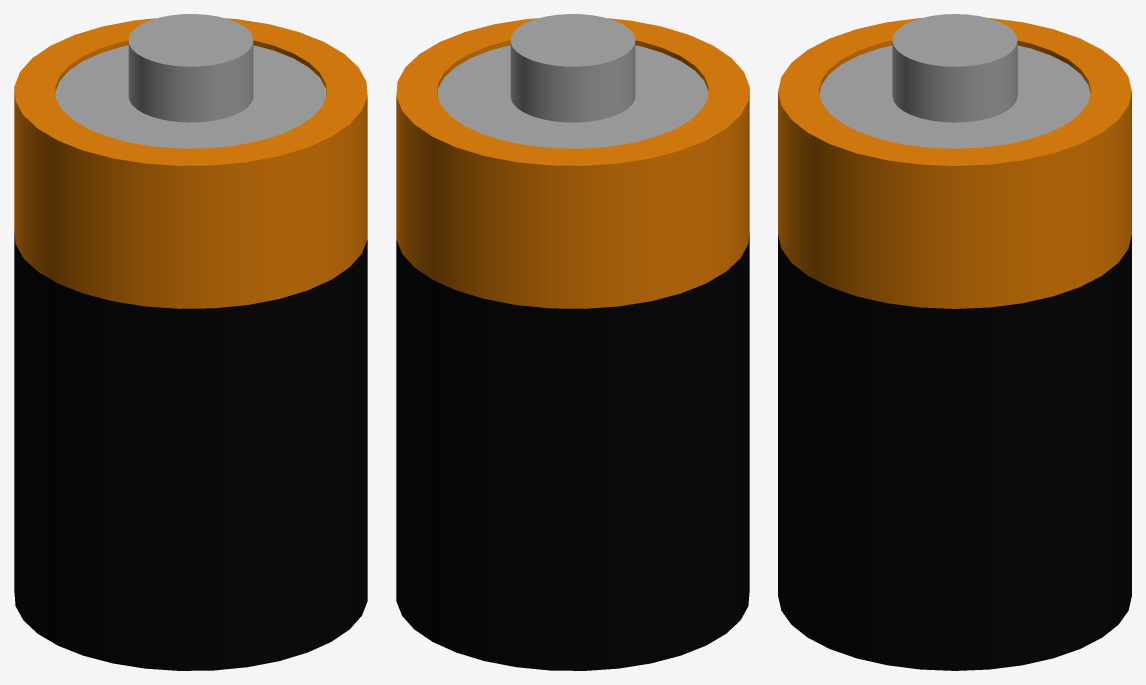
Rendered from Pila.fbx.
3 views of the same model, side by side, from view 1: azimuth 30°, elevation 25°; view 2: azimuth 150°, elevation 25°; view 3: azimuth 270°, elevation 25° (orthographic).
Parts seen in each view (by area): view 1: Cylinder; view 2: Cylinder; view 3: Cylinder.
Part boxes in pixels (<box>): Cylinder: <box>14,14,367,670</box>; Cylinder: <box>396,14,749,670</box>; Cylinder: <box>778,14,1131,670</box>.
Bounding box in the file's own units: 237 × 411 × 237.
